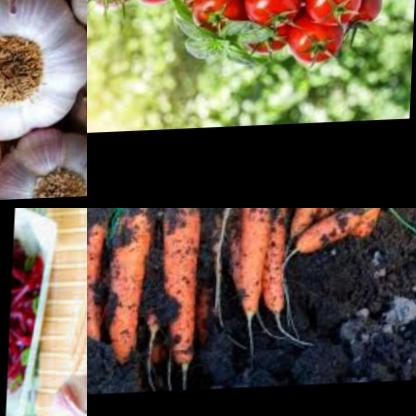beet: (9, 229, 52, 389)
carrot: (153, 208, 219, 379), (104, 208, 164, 372), (224, 208, 300, 329), (87, 208, 117, 363), (298, 208, 357, 264), (355, 208, 398, 250)
garlic: (0, 0, 87, 205), (58, 370, 87, 416)
tomato: (239, 0, 312, 39), (190, 0, 248, 43), (292, 27, 347, 72), (304, 0, 364, 35), (343, 0, 389, 36), (249, 32, 294, 66), (129, 0, 173, 12)
